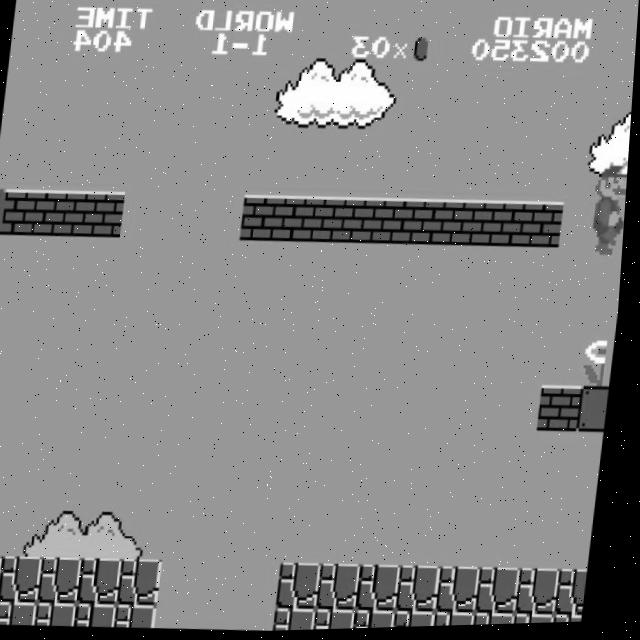0- big_mario: (589, 163, 631, 260)
1- brick_block: (542, 387, 588, 436), (362, 199, 408, 247), (322, 198, 368, 246), (83, 191, 129, 239), (43, 190, 89, 238), (522, 204, 567, 252), (482, 202, 527, 250), (442, 201, 487, 249), (402, 200, 447, 248), (283, 197, 328, 245), (243, 196, 288, 244), (4, 189, 49, 237)
13- mystery_block: (0, 189, 9, 235)
17- undestructible_block: (523, 571, 569, 620), (483, 569, 529, 618), (284, 564, 330, 613), (85, 558, 131, 607), (45, 557, 91, 606), (5, 555, 51, 604), (444, 568, 489, 617), (404, 567, 449, 616), (364, 566, 409, 615), (324, 565, 369, 614), (125, 559, 170, 608), (563, 572, 595, 620), (122, 604, 166, 630), (82, 603, 126, 629), (43, 602, 86, 628), (3, 601, 46, 627), (281, 609, 325, 633), (321, 610, 365, 632), (361, 611, 404, 631), (401, 612, 444, 630), (441, 613, 484, 629), (481, 614, 524, 628), (0, 554, 11, 603), (521, 616, 564, 627), (561, 617, 591, 626), (0, 599, 6, 625)
3- empty_block: (582, 389, 615, 437)
6- flower: (587, 341, 620, 391)
